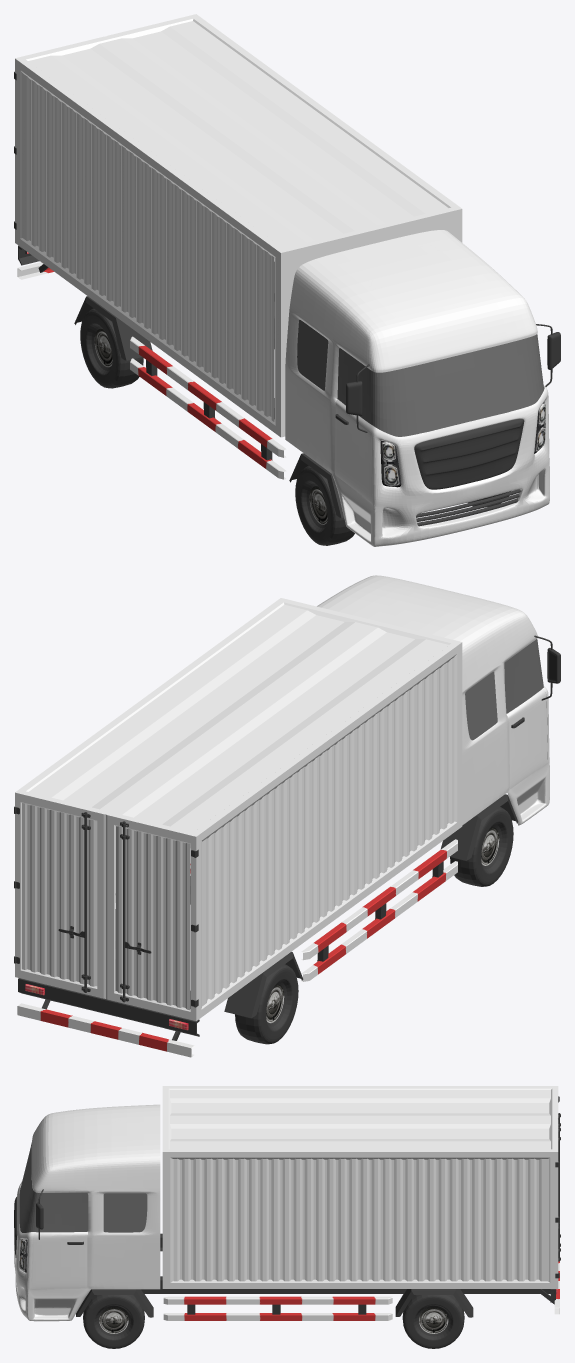
The model's file is truckModel.glb.
3 views of the same model, one above another, from view 1: azimuth 30°, elevation 25°; view 2: azimuth 150°, elevation 25°; view 3: azimuth 270°, elevation 25° (orthographic). The views are drawn at different scales.
Visible parts, largest first — view 1: truck.001; view 2: truck.001; view 3: truck.001.
Part boxes in pixels (left/top/right/bottom): truck.001: left=14, top=14, right=560, bottom=546; truck.001: left=14, top=575, right=560, bottom=1057; truck.001: left=14, top=1086, right=560, bottom=1348.
Bounding box in the file's own units: 1.81 × 2.17 × 5.4.
1 material, 1 textured.
